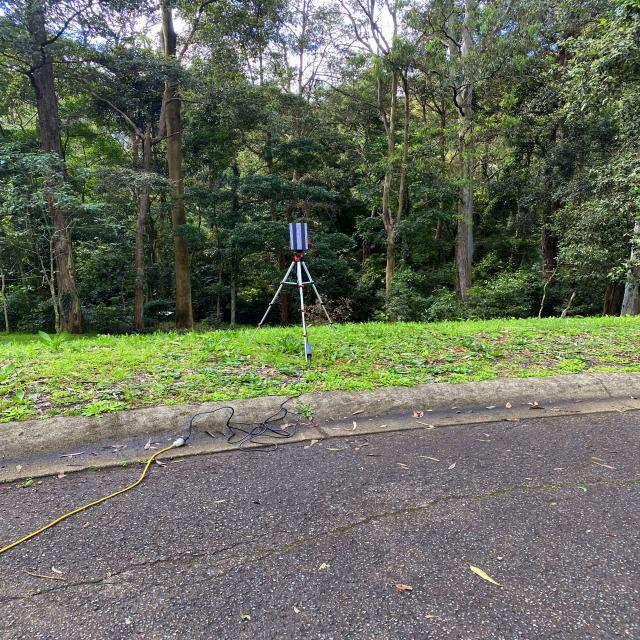matrix: (285, 215, 315, 256)
